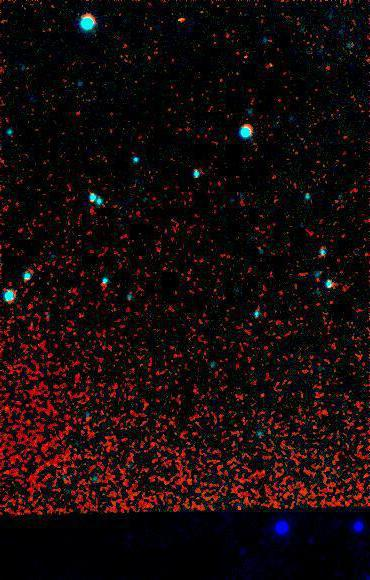star: (165, 4, 195, 34)
